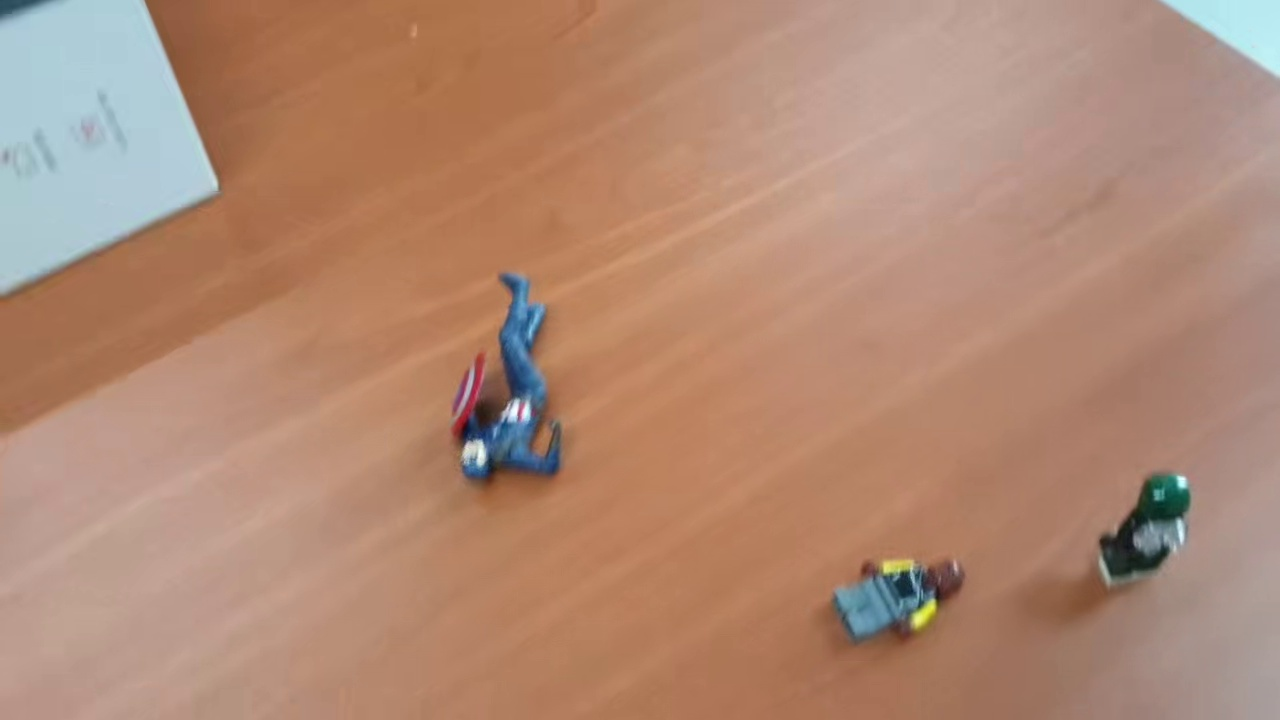people: (447, 264, 565, 485), (832, 552, 969, 646), (1094, 471, 1190, 594)
